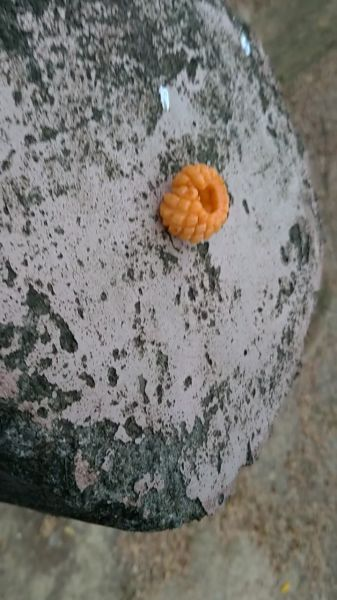eggs: (152, 156, 238, 242)
